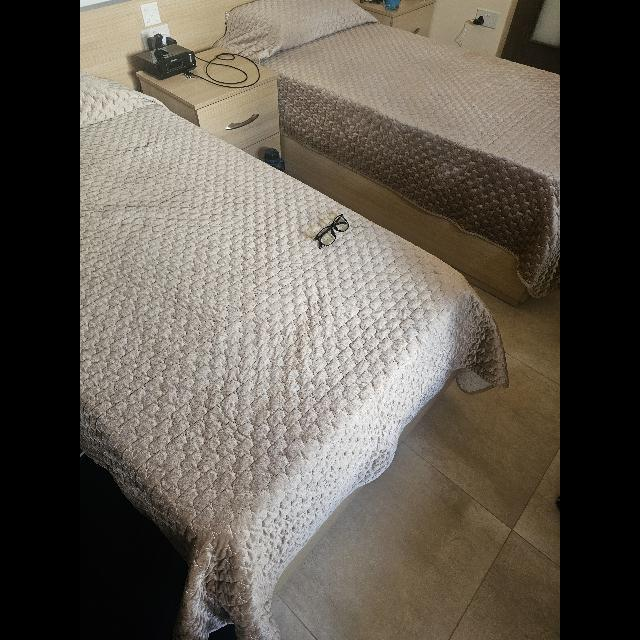glasses: (313, 214, 349, 248)
